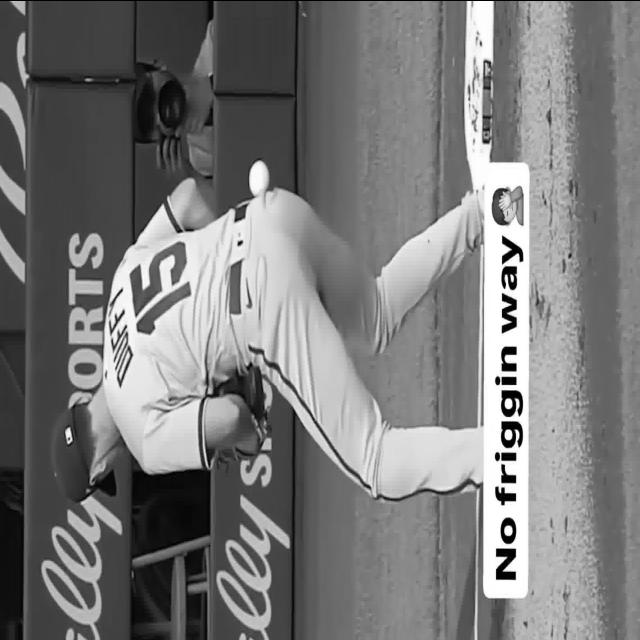base: (464, 0, 494, 189)
baseball: (249, 160, 270, 195)
baseball_glove: (214, 364, 266, 420), (220, 449, 255, 460)
